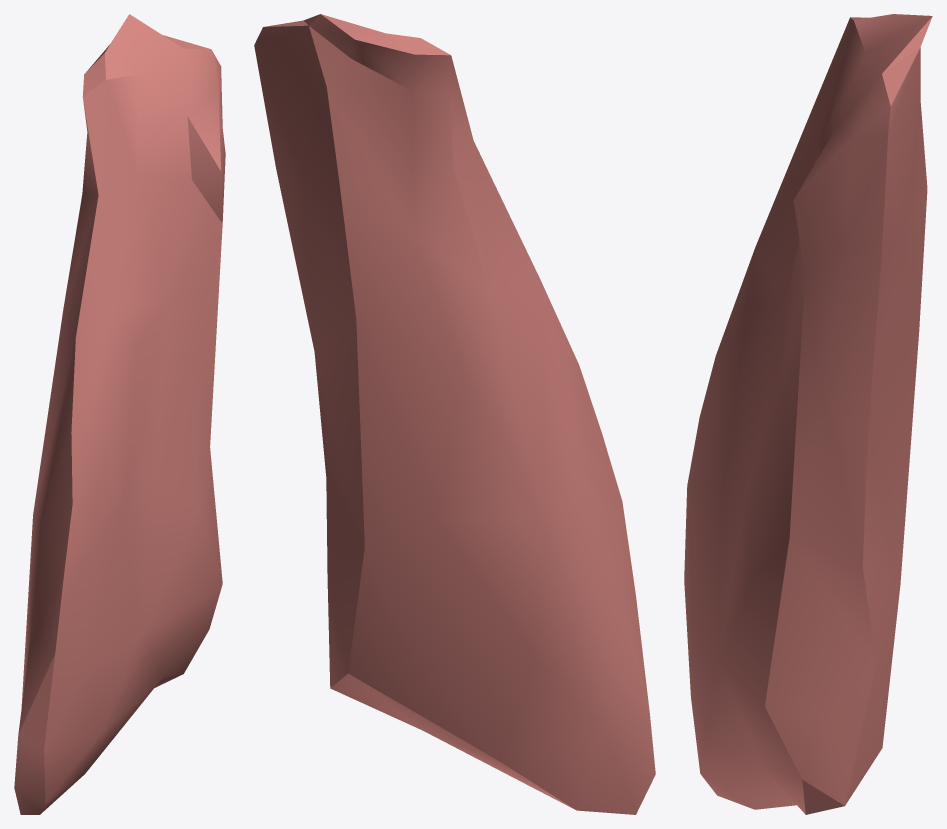
File: fma81555_mm1327m.glb
3 views of the same model, side by side, from view 1: azimuth 30°, elevation 25°; view 2: azimuth 150°, elevation 25°; view 3: azimuth 270°, elevation 25° (orthographic). The views are drawn at different scales.
Parts seen in each view (by area): view 1: FMA81555_MM1327M; view 2: FMA81555_MM1327M; view 3: FMA81555_MM1327M.
Part boxes in pixels (x1=…): FMA81555_MM1327M: x1=14, y1=14, x2=225, y2=814; FMA81555_MM1327M: x1=254, y1=14, x2=655, y2=814; FMA81555_MM1327M: x1=684, y1=14, x2=932, y2=814.
Size of the model in its own units: 0.00624 by 0.0151 by 0.00383.
